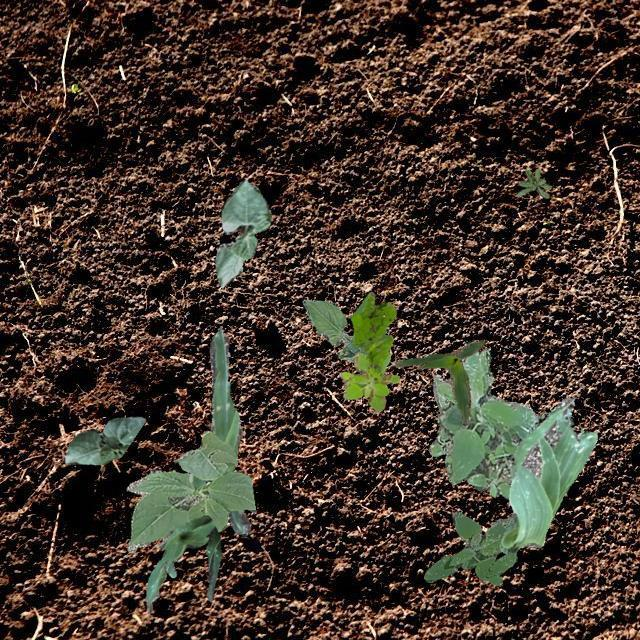crop: (148, 328, 250, 534), (126, 430, 254, 552), (498, 398, 596, 554), (394, 338, 484, 424), (144, 514, 220, 614), (213, 180, 270, 286), (302, 298, 368, 361), (64, 416, 144, 464)
weed: (437, 350, 538, 498), (428, 348, 492, 456), (422, 511, 516, 584), (350, 290, 396, 372), (339, 352, 398, 411), (516, 168, 550, 198)
